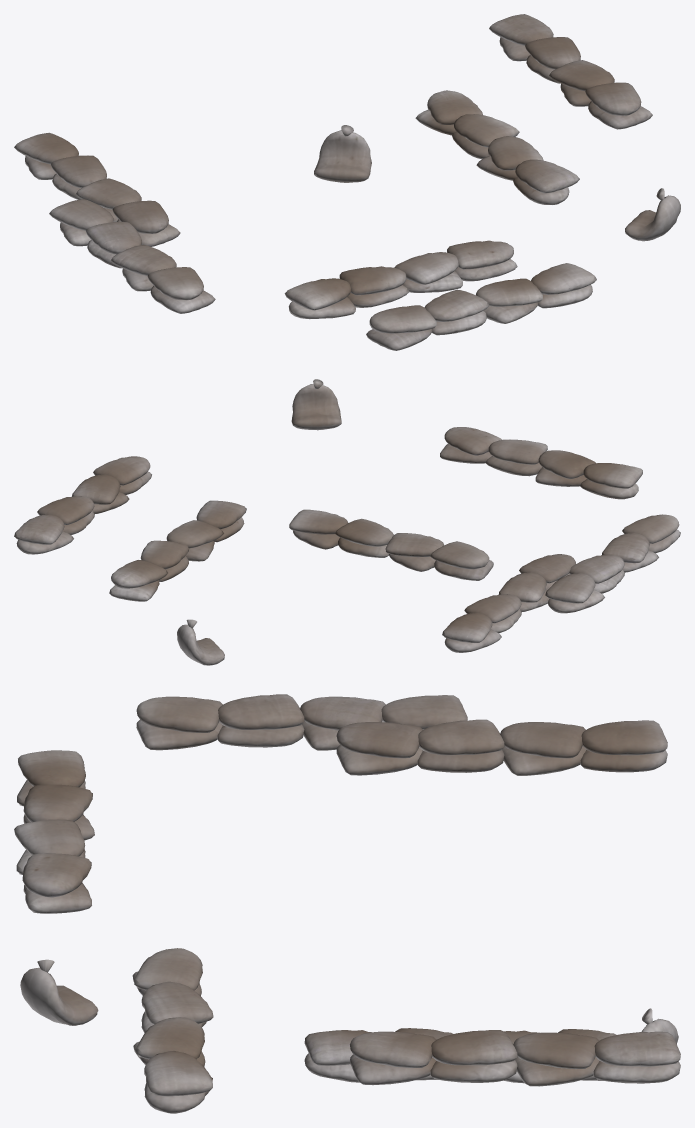
Rendered from DigPit ( PROPS 1 ).fbx.
3 renders of one model, top to bottom at view 1: azimuth 30°, elevation 25°; view 2: azimuth 150°, elevation 25°; view 3: azimuth 270°, elevation 25°, orthographic. The views are drawn at different scales.
Parts seen in each view (by area): view 1: Cube.007; view 2: Cube.007; view 3: Cube.007.
Boxes of the visible parts, x1=… form: Cube.007: x1=14, y1=14, x2=680, y2=350; Cube.007: x1=14, y1=379, x2=680, y2=665; Cube.007: x1=14, y1=694, x2=680, y2=1113.
Size of the model in its own units: 7.35 by 1.64 by 5.62.
